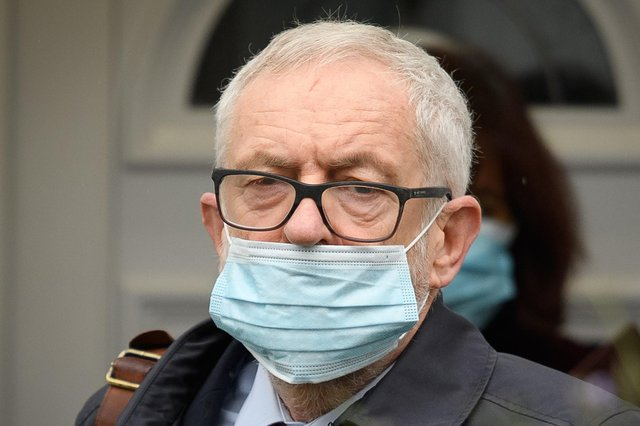with_incorrect_mask: (220, 156, 424, 355)
